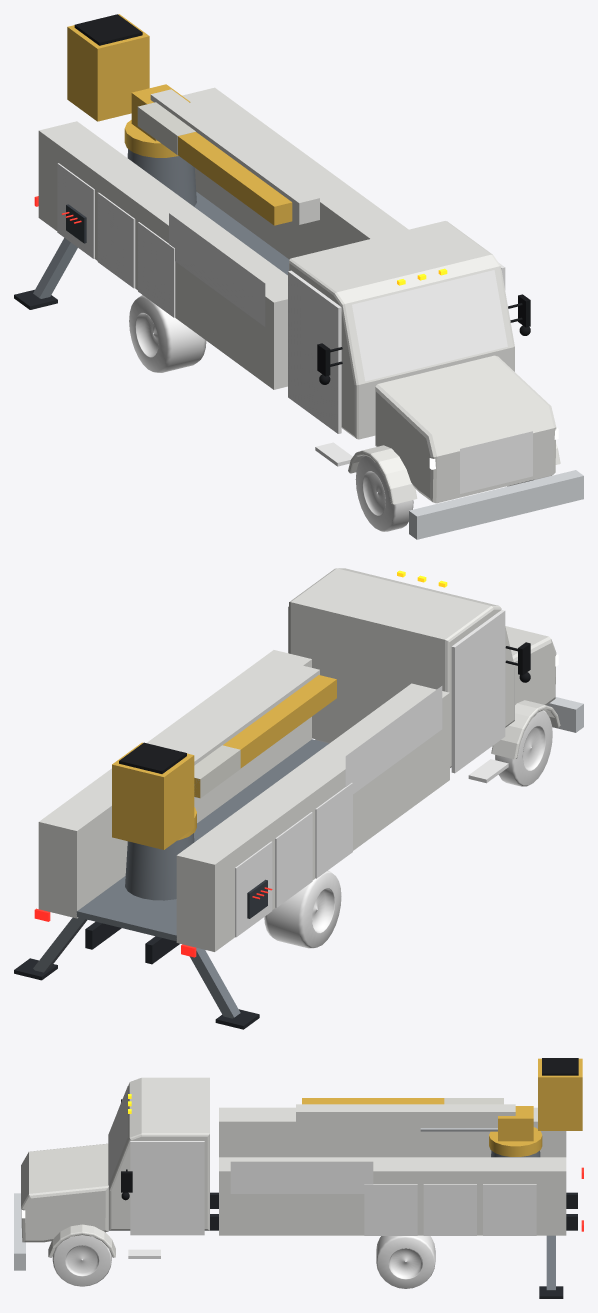
File: fleet--bucketTruck.glb
3 renders of one model, top to bottom at view 1: azimuth 30°, elevation 25°; view 2: azimuth 150°, elevation 25°; view 3: azimuth 270°, elevation 25°, orthographic. The views are drawn at different scales.
Visible parts, largest first — view 1: bucketTruck:shell, compartments, bucket, doorR, boomUpper, boom, axle2, wheelFR, turret, outriggerR; view 2: bucketTruck:shell, bucket, compartments, doorR, boomUpper, axle2, boom, wheelFR, outriggerR, outriggerL, controls; view 3: bucketTruck:shell, compartments, doorL, boom, bucket, axle2, wheelFL, turret, boomUpper, outriggerL, mirrorL.
Part boxes in pixels (left/top/right/bottom): bucketTruck:shell: left=38, top=87, right=583, bottom=539; compartments: left=57, top=163, right=175, bottom=317; bucket: left=67, top=14, right=149, bottom=121; doorR: left=288, top=270, right=341, bottom=433; boomUpper: left=137, top=102, right=292, bottom=225; boom: left=150, top=89, right=319, bottom=224; axle2: left=129, top=295, right=206, bottom=372; wheelFR: left=355, top=455, right=413, bottom=531; turret: left=124, top=84, right=190, bottom=157; outriggerR: left=14, top=238, right=77, bottom=309; bucketTruck:shell: left=38, top=568, right=583, bottom=964; bucket: left=112, top=742, right=194, bottom=849; compartments: left=235, top=783, right=352, bottom=937; doorR: left=451, top=610, right=505, bottom=773; boomUpper: left=194, top=675, right=336, bottom=798; axle2: left=264, top=870, right=341, bottom=948; boom: left=181, top=664, right=319, bottom=765; wheelFR: left=495, top=710, right=552, bottom=786; outriggerR: left=189, top=947, right=259, bottom=1029; outriggerL: left=14, top=917, right=87, bottom=980; controls: left=247, top=879, right=272, bottom=918; bucketTruck:shell: left=14, top=1077, right=577, bottom=1270; compartments: left=364, top=1184, right=536, bottom=1235; doorL: left=130, top=1141, right=204, bottom=1235; boom: left=296, top=1104, right=515, bottom=1131; bucket: left=538, top=1058, right=582, bottom=1130; axle2: left=376, top=1235, right=435, bottom=1288; wheelFL: left=52, top=1235, right=111, bottom=1286; turret: left=489, top=1106, right=542, bottom=1156; boomUpper: left=302, top=1098, right=503, bottom=1104; outriggerL: left=539, top=1235, right=563, bottom=1298; mirrorL: left=121, top=1169, right=132, bottom=1200.
Size of the model in its own units: 3.3 by 3.44 by 9.6.
